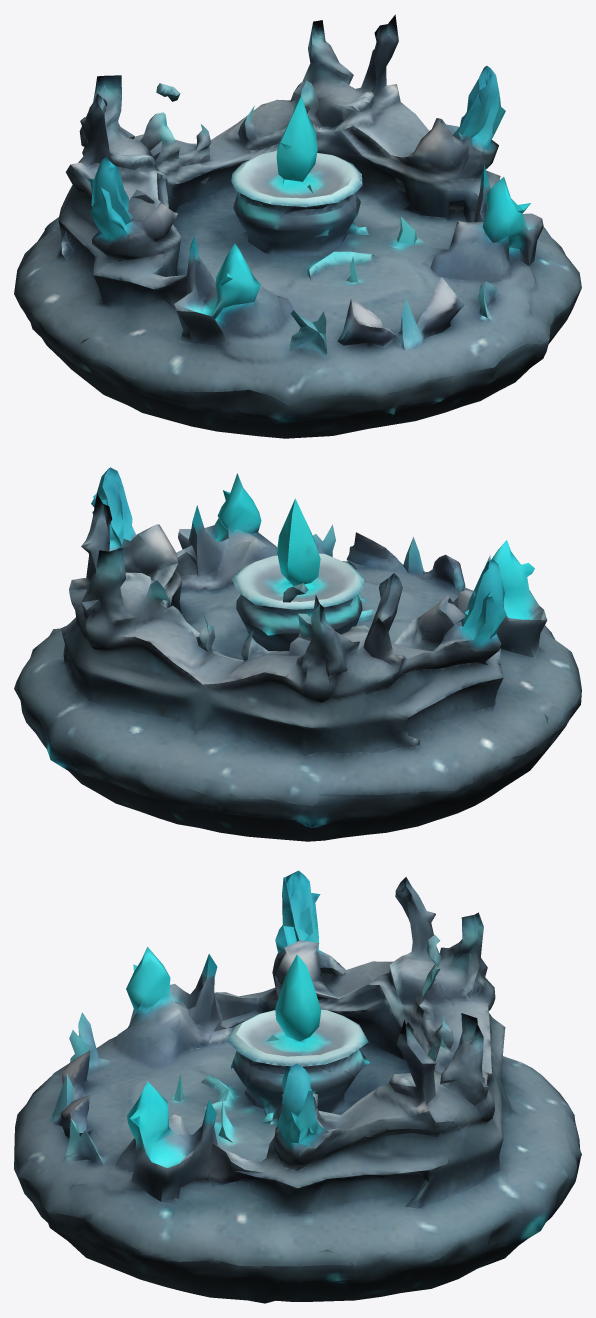
Rendered from frost-sacrificial-altar.glb.
3 renders of one model, top to bottom at view 1: azimuth 30°, elevation 25°; view 2: azimuth 150°, elevation 25°; view 3: azimuth 270°, elevation 25°, orthographic. The views are drawn at different scales.
Visible parts, largest first — view 1: a-single-ancient-frost-altar-broad-carved_optimized; view 2: a-single-ancient-frost-altar-broad-carved_optimized; view 3: a-single-ancient-frost-altar-broad-carved_optimized.
Boxes of the visible parts, x1,y1,x2,y2 form: a-single-ancient-frost-altar-broad-carved_optimized: (14, 14, 581, 438); a-single-ancient-frost-altar-broad-carved_optimized: (14, 467, 581, 841); a-single-ancient-frost-altar-broad-carved_optimized: (14, 870, 581, 1303).
Bounding box in the file's own units: 0.9963 × 0.4974 × 0.9976.
1 material, 1 textured.
